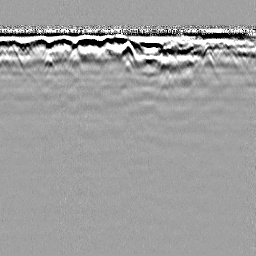cavity: (120, 39, 138, 61)
